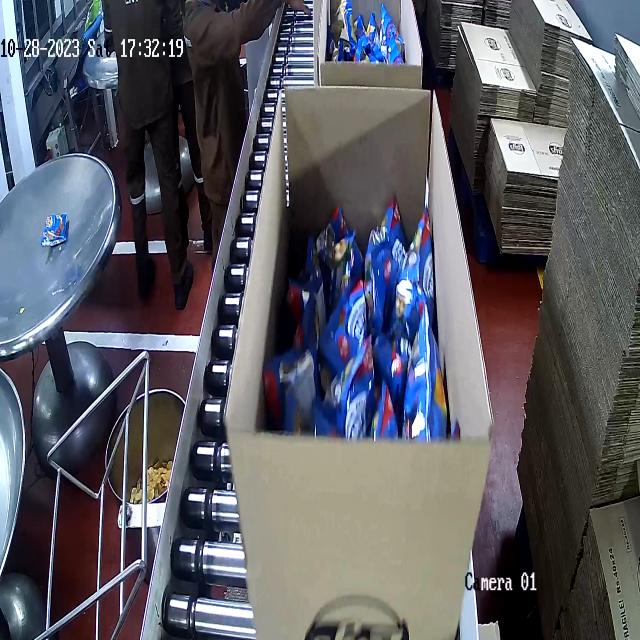PAPRIKA: (270, 204, 450, 451)
